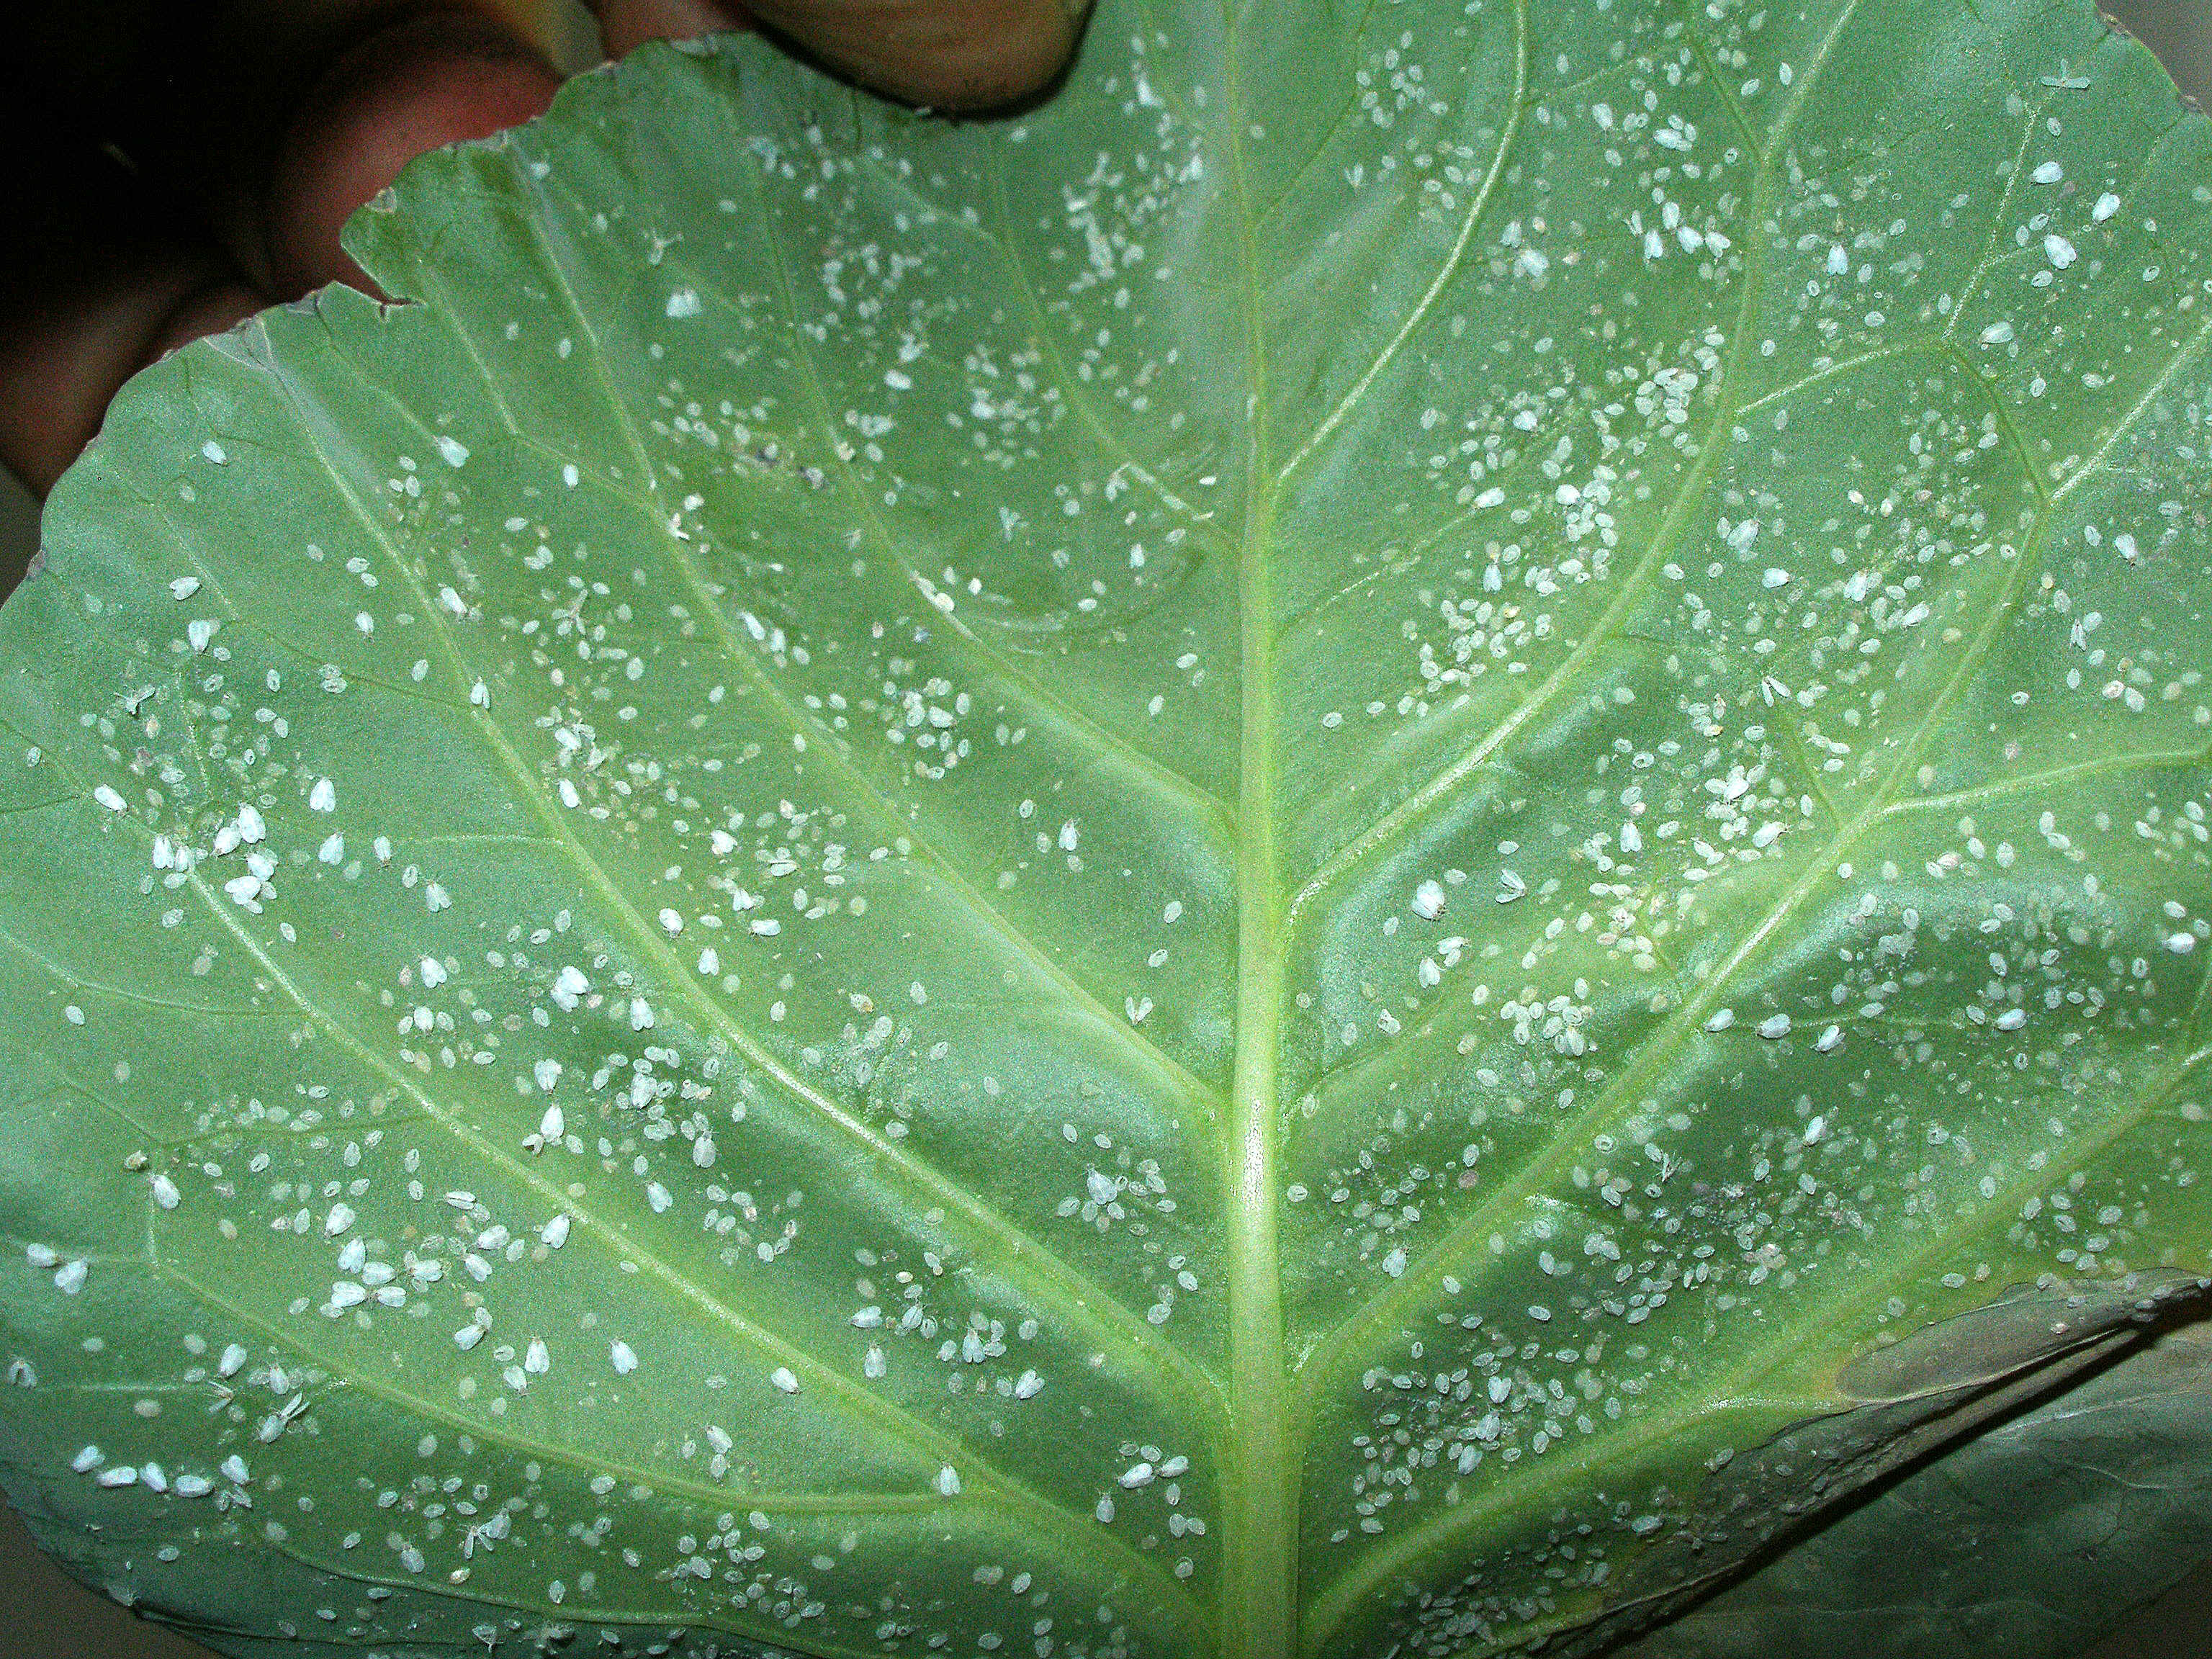cabbage: (0, 0, 2209, 1656)
